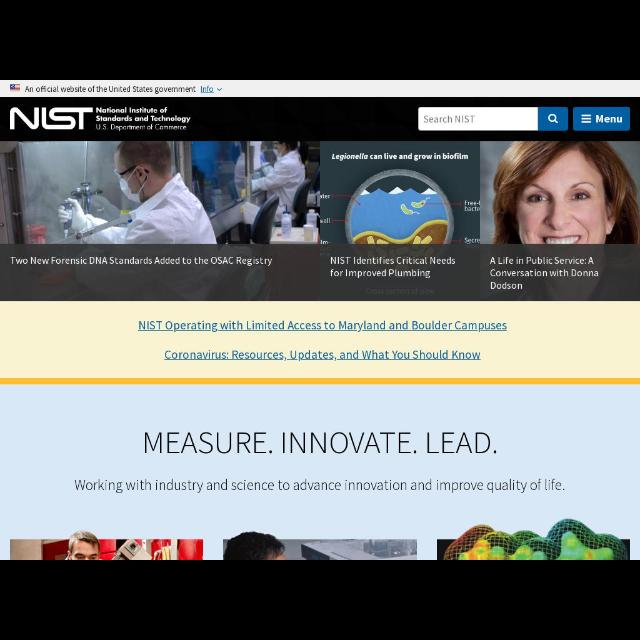backgroundimage: (1, 379, 640, 559)
icon: (548, 114, 558, 124), (582, 115, 592, 124), (216, 88, 222, 92)
image: (0, 141, 320, 301), (320, 141, 480, 301), (480, 141, 640, 301), (10, 85, 20, 92)
input: (418, 108, 568, 130)
link: (138, 320, 508, 334), (163, 348, 481, 364), (201, 86, 213, 94)
text: (74, 478, 564, 494), (145, 432, 497, 454), (165, 350, 480, 362), (139, 322, 506, 332), (9, 106, 92, 130), (26, 86, 196, 94), (96, 115, 192, 123), (96, 124, 186, 132), (96, 107, 168, 113), (425, 116, 475, 122), (596, 115, 622, 123), (201, 86, 213, 92)
textbutton: (574, 108, 630, 130)
toolbar: (1, 97, 640, 141)
